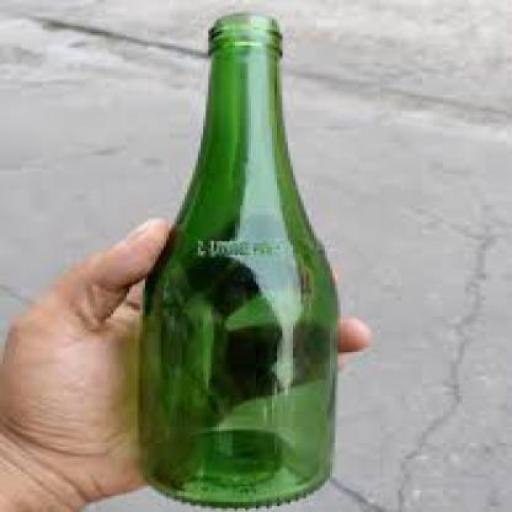glass: (130, 12, 338, 510)
